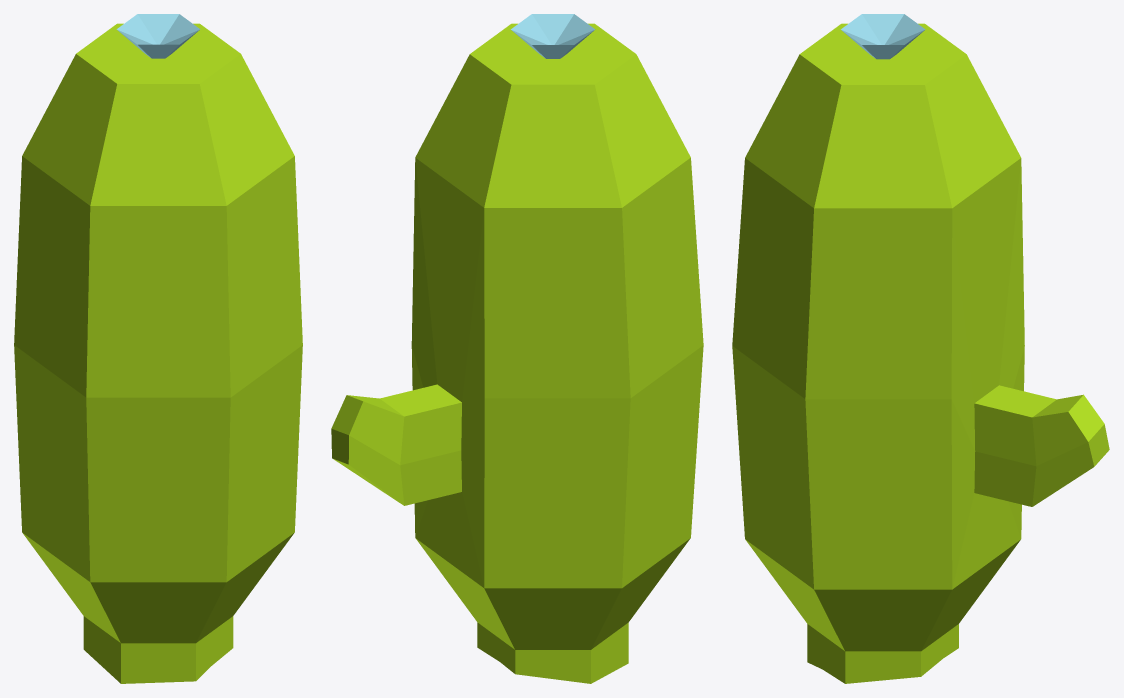
The model's file is Cactus3.glb.
3 renders of one model, left to right at view 1: azimuth 30°, elevation 25°; view 2: azimuth 150°, elevation 25°; view 3: azimuth 270°, elevation 25°, orthographic.
Parts seen in each view (by area): view 1: Cactus3; view 2: Cactus3; view 3: Cactus3.
Part boxes in pixels (<box>): Cactus3: <box>14,14,302,683</box>; Cactus3: <box>331,14,703,683</box>; Cactus3: <box>732,14,1109,683</box>.
Bounding box in the file's own units: 0.65 × 1.7 × 0.9172.
1 material, 1 textured.
